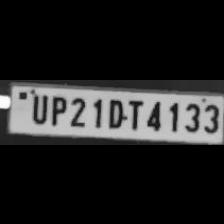1: (87, 94, 105, 128), (162, 98, 180, 132)
2: (66, 93, 86, 126)
3: (181, 98, 201, 132), (200, 100, 220, 134)
4: (142, 96, 164, 132)
D: (104, 96, 125, 128)
P: (47, 92, 67, 125)
T: (124, 96, 144, 130)
U: (26, 92, 48, 124)
